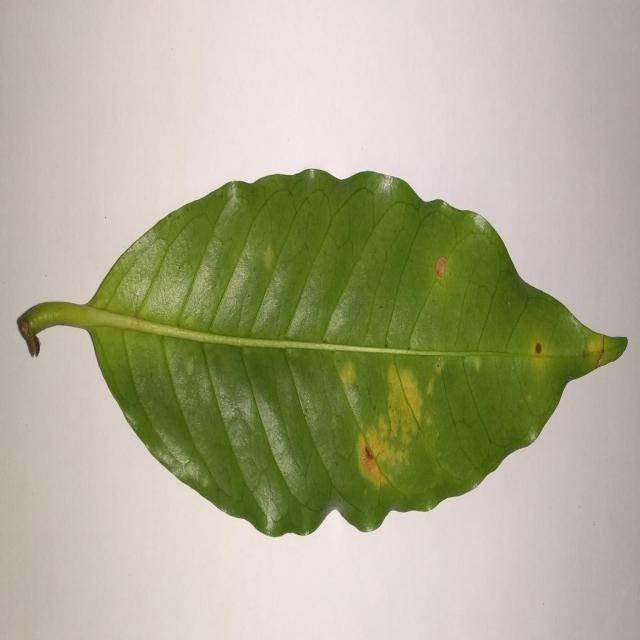rust: (387, 360, 422, 458), (363, 414, 406, 476), (357, 434, 391, 488), (337, 356, 357, 386), (531, 331, 552, 359), (433, 251, 447, 281)
